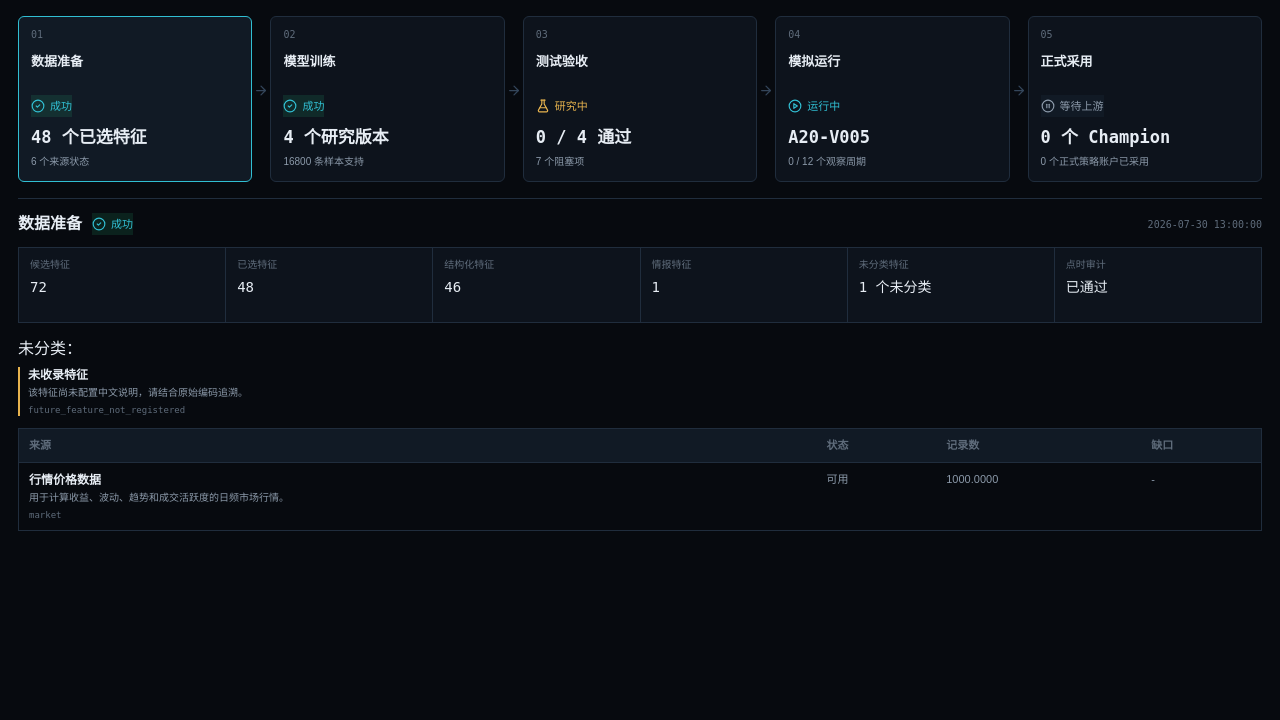
Test case: ModelResearchPage › shows zero selected securities and the evidenced cash reason
expect the text "A20-V005" is shown: met, box [788, 127, 870, 147]
Click the button "04 模拟运行 运行中 A20-V005 0 / 12 个观察周期" at {"x": 892, "y": 99}, box [775, 16, 1010, 182]
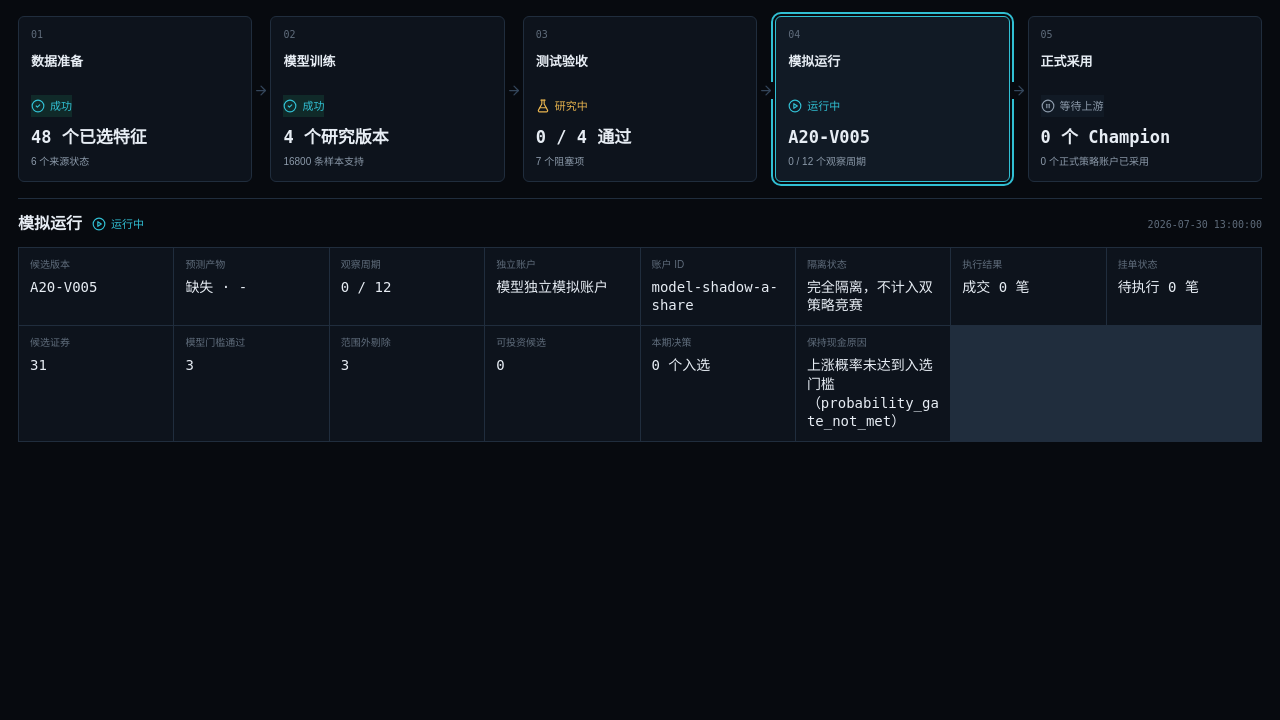
expect the text "0 个入选" is shown: met, box [652, 357, 710, 373]
expect the text "范围外剔除" is shown: met, box [341, 337, 391, 348]
expect the text "3" is shown 2 times: met, box [185, 357, 194, 373]; [341, 357, 349, 373]
